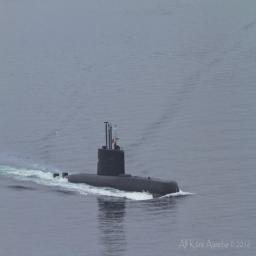submarine: (54, 149, 181, 198)
